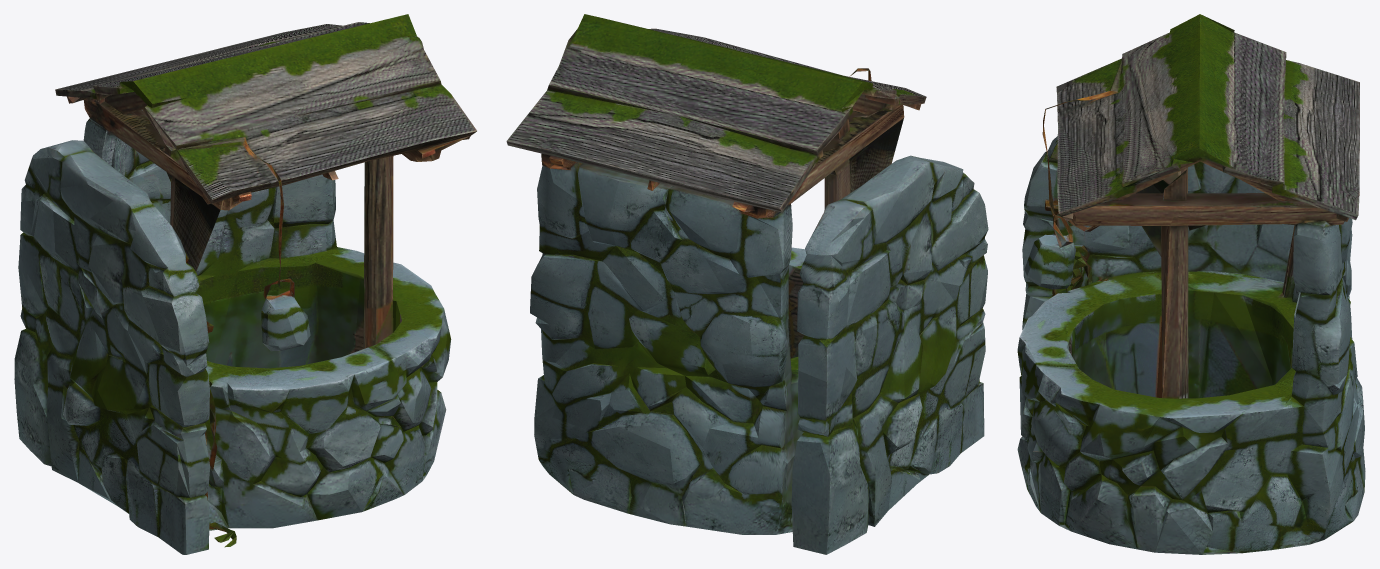
The picture shows the model from 3 angles, left to right: view 1: azimuth 30°, elevation 25°; view 2: azimuth 150°, elevation 25°; view 3: azimuth 270°, elevation 25°; orthographic projection.
Size of the model in its own units: 1.69 by 1.9 by 1.48.
Materials: 1 (1 with a texture image).
